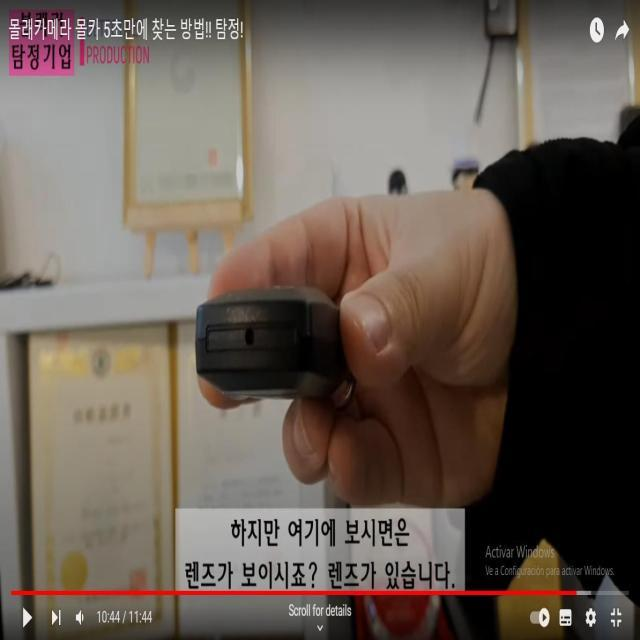hidden camera: (236, 310, 261, 360)
